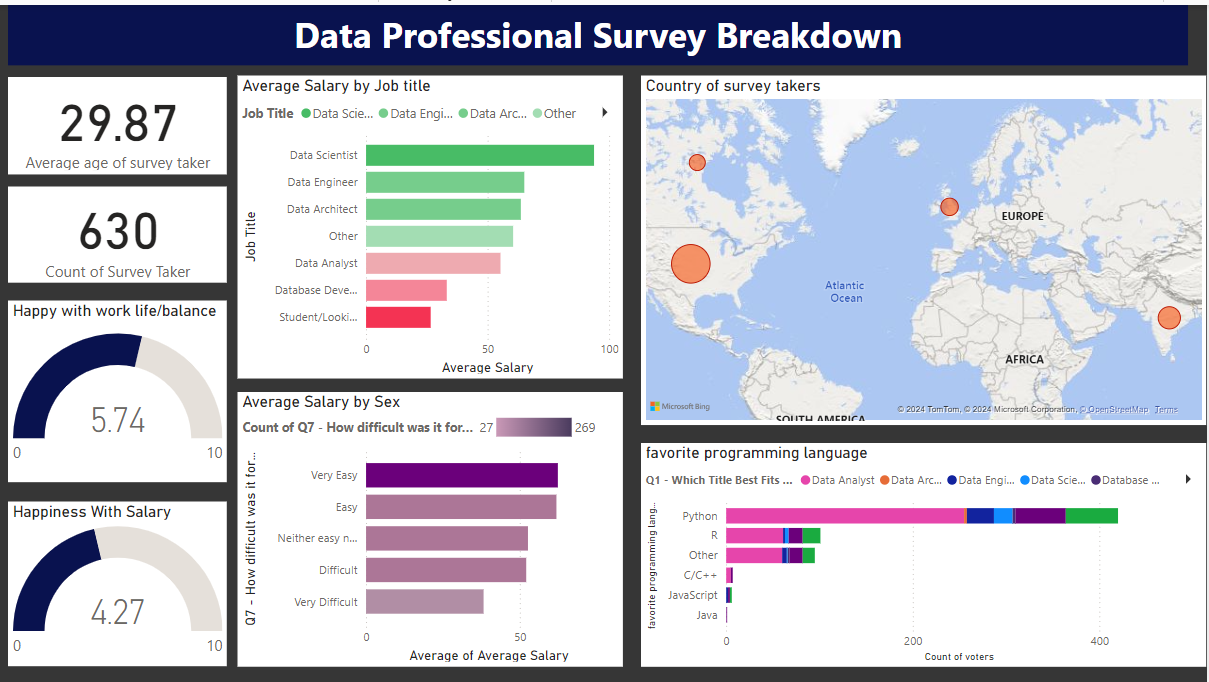

The dashboard page shown, as its layout file describes it:
{"tool":"powerbi","page":{"name":"Page 1","canvas":[1280,720],"ordinal":0},"visuals":[{"type":"textbox","box":[10.1,0,1251.5,63.7],"z":0},{"type":"card","fields":{"Values":["CountNonNull(Data Professional Survey.Unique ID)"]},"box":[1099.9,63.2,180.1,169.1],"z":1000},{"type":"card","fields":{"Values":["Avg(Data Professional Survey.Q10 - Current Age)"]},"box":[919.8,66,180.1,166.4],"z":2000},{"type":"barChart","title":"Average Salary by Job title","fields":{"Category":["Data Professional Survey.Q1 - Which Title Best Fits your Current Role?.1"],"Y":["Avg(Data Professional Survey.Average Salary)"],"Series":["Data Professional Survey.Q1 - Which Title Best Fits your Current Role?.1"]},"box":[485.3,66,434.5,363],"z":3000},{"type":"columnChart","title":" favorite programming language","fields":{"Category":["Data Professional Survey.Q5 - Favorite Programming Language.1"],"Y":["CountNonNull(Data Professional Survey.Unique ID)"],"Series":["Data Professional Survey.Q1 - Which Title Best Fits your Current Role?.1"]},"box":[0,404.2,420.7,316.2],"z":4000},{"type":"treemap","title":"Country of survey takers","fields":{"Values":["CountNonNull(Data Professional Survey.Q11 - Which Country do you live in?.1)"],"Group":["Data Professional Survey.Q11 - Which Country do you live in?.1"]},"box":[0,59.1,485.3,345.1],"z":5000},{"type":"gauge","title":"Happiness With Salary","fields":{"Y":["Avg(Data Professional Survey.Q6 - How Happy are you in your Current Position with the following? (Salary))"],"MinValue":["Min(Data Professional Survey.Q6 - How Happy are you in your Current Position with the following? (Salary))"],"MaxValue":["Max(Data Professional Survey.Q6 - How Happy are you in your Current Position with the following? (Salary))"]},"box":[929.4,442.7,350.6,258.5],"z":6000},{"type":"gauge","title":"Happy with work life/balance","fields":{"Y":["Avg(Data Professional Survey.Q6 - How Happy are you in your Current Position with the following? (Work/Life Balance))"],"MinValue":["Min(Data Professional Survey.Q6 - How Happy are you in your Current Position with the following? (Work/Life Balance))1"],"MaxValue":["Max(Data Professional Survey.Q6 - How Happy are you in your Current Position with the following? (Work/Life Balance))"]},"box":[919.8,250.2,360.2,192.5],"z":7000},{"type":"donutChart","title":"Average Salary by Sex","fields":{"Category":["Data Professional Survey.Q7 - How difficult was it for you to break into Data?"],"Y":["Avg(Data Professional Survey.Average Salary)"]},"box":[430.3,429,489.5,291.5],"z":8000}]}

Visuals, with their boxes in screenshot pixels (x1, y1, x2, y2), scaled from the page's 1280x720 canvas onto the 1209x682 screenshot:
textbox: select_region(10, 0, 1192, 60)
card - CountNonNull(Data Professional Survey.Unique ID): select_region(1039, 60, 1208, 220)
card - Avg(Data Professional Survey.Q10 - Current Age): select_region(869, 63, 1039, 220)
"Average Salary by Job title" barChart: select_region(458, 63, 869, 406)
" favorite programming language" columnChart: select_region(0, 383, 397, 681)
"Country of survey takers" treemap: select_region(0, 56, 458, 383)
"Happiness With Salary" gauge: select_region(878, 419, 1208, 664)
"Happy with work life/balance" gauge: select_region(869, 237, 1208, 419)
"Average Salary by Sex" donutChart: select_region(406, 406, 869, 681)
